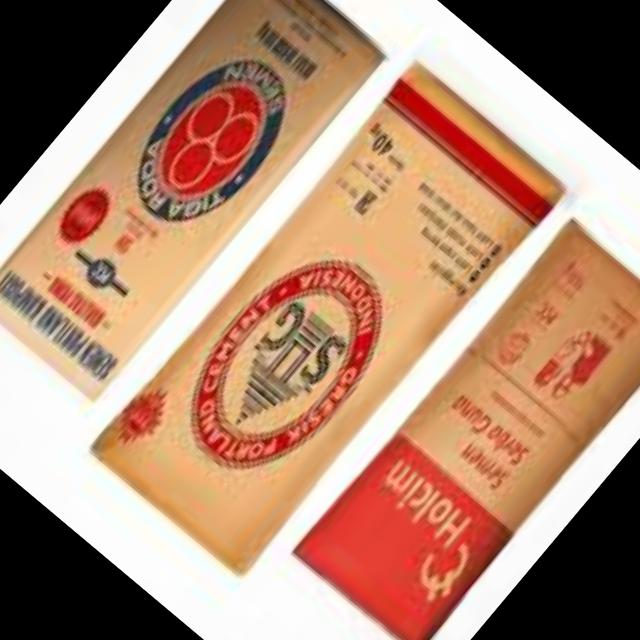KantongSemen: (82, 59, 570, 585), (0, 0, 388, 409), (287, 218, 640, 640)
